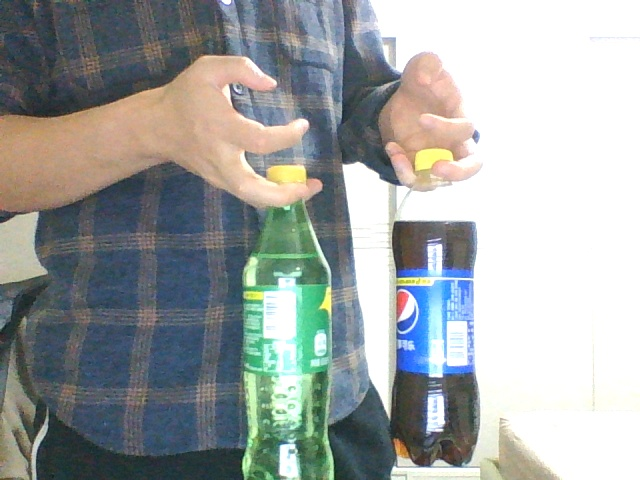Cola: (390, 149, 479, 465)
Sprite: (240, 163, 333, 479)
